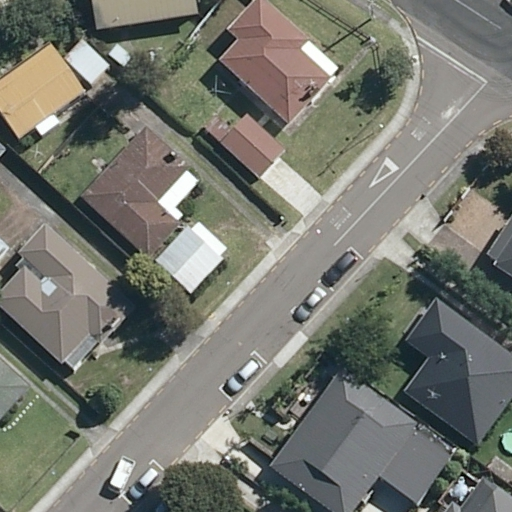DT: (364, 1, 379, 22)
